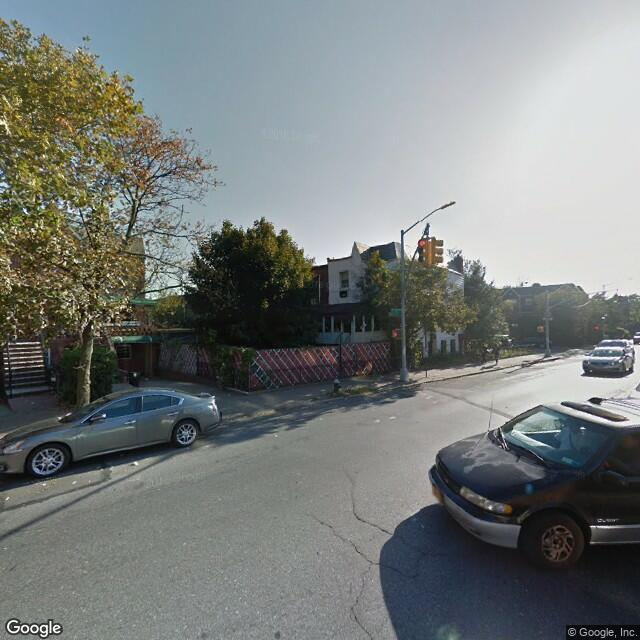litter: (72, 479, 79, 488), (132, 461, 140, 468), (5, 496, 11, 503), (274, 432, 279, 439), (41, 483, 47, 488)
